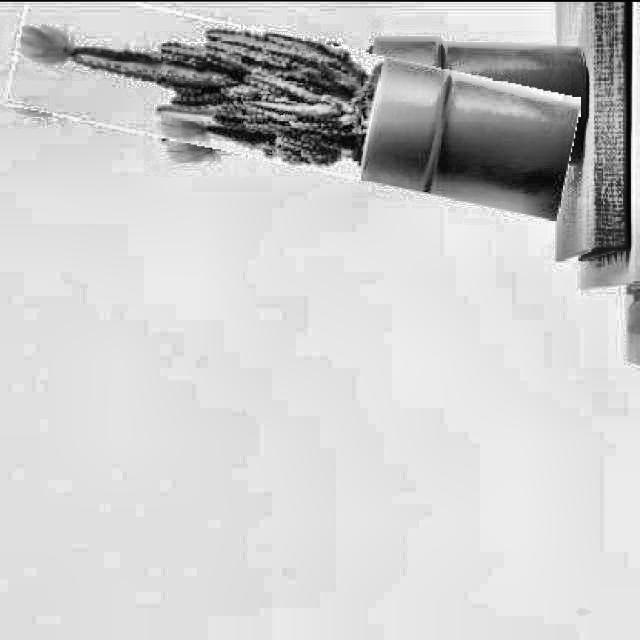plants: (9, 10, 578, 192)
